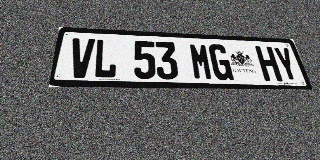3: (155, 41, 178, 80)
5: (134, 41, 156, 79)
G: (208, 44, 234, 80)
H: (255, 46, 283, 81)
L: (93, 39, 117, 79)
M: (189, 43, 214, 80)
V: (67, 38, 95, 78)
Y: (272, 47, 301, 82)
